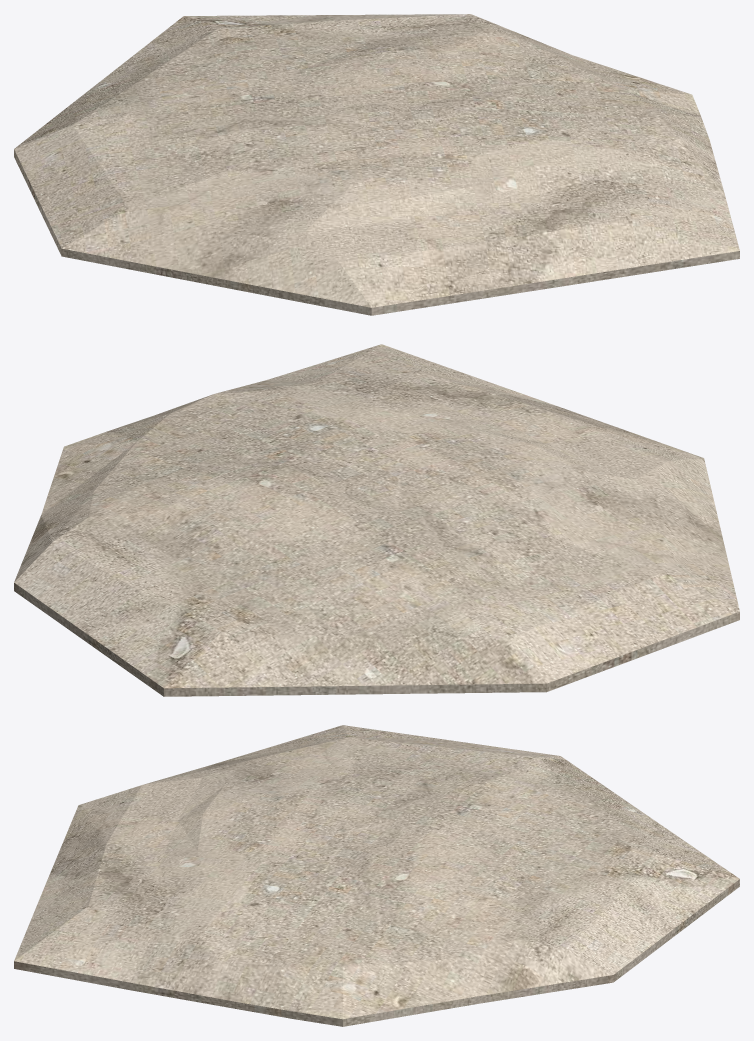
File: island.obj
3 views of the same model, one above another, from view 1: azimuth 30°, elevation 25°; view 2: azimuth 150°, elevation 25°; view 3: azimuth 270°, elevation 25° (orthographic). The views are drawn at different scales.
Parts seen in each view (by area): view 1: Island; view 2: Island; view 3: Island.
Part boxes in pixels (left/top/right/bottom): Island: left=14, top=14, right=739, bottom=315; Island: left=14, top=344, right=739, bottom=696; Island: left=14, top=725, right=739, bottom=1026.
Bounding box in the file's own units: 51.07 × 3.97 × 53.26.
Materials: 1 (1 with a texture image).
